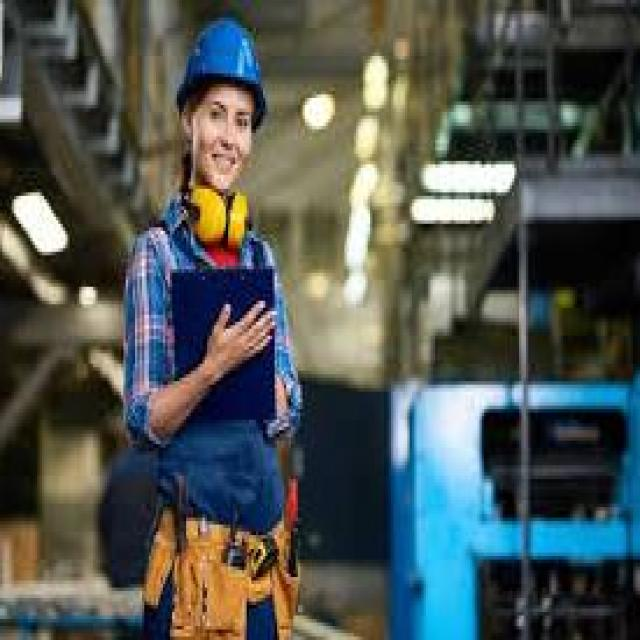Safety-Helmet: (168, 11, 274, 122)
